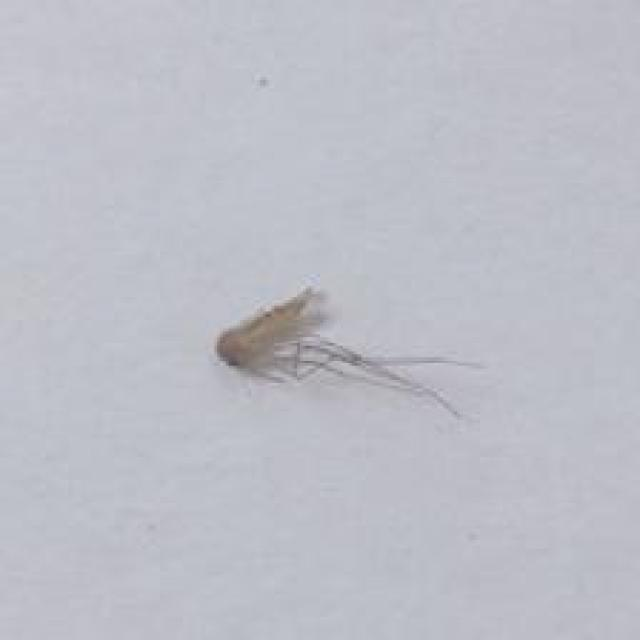Culex: (213, 283, 478, 420)
